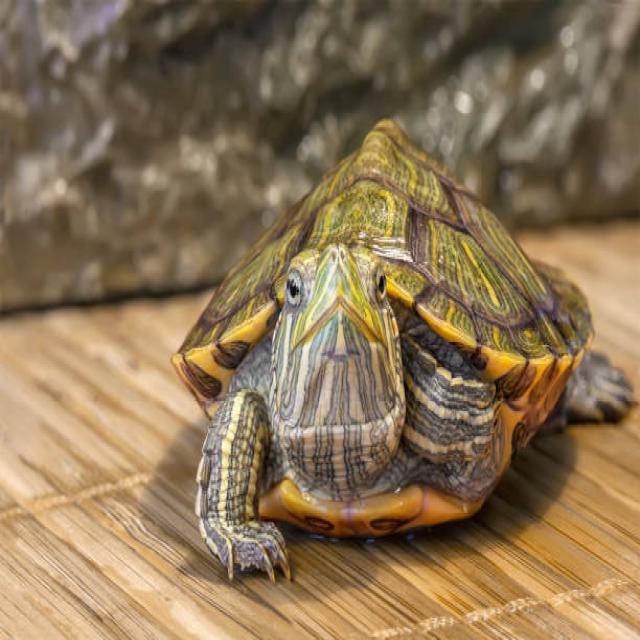terrapin: (162, 91, 640, 557), (262, 221, 409, 449), (198, 380, 294, 599)
